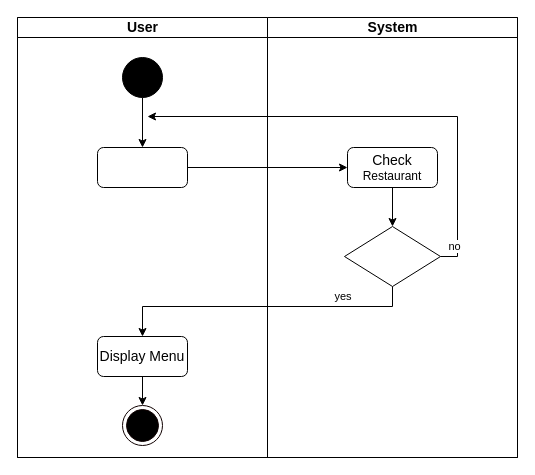
This 535x475 diagram has some shape labels left out. The shapes that lost their labels are listed below. From the top down, each one's centre as x and y in pixels, then its label:
point (142, 167): Search for Restaurant
point (392, 256): if available
